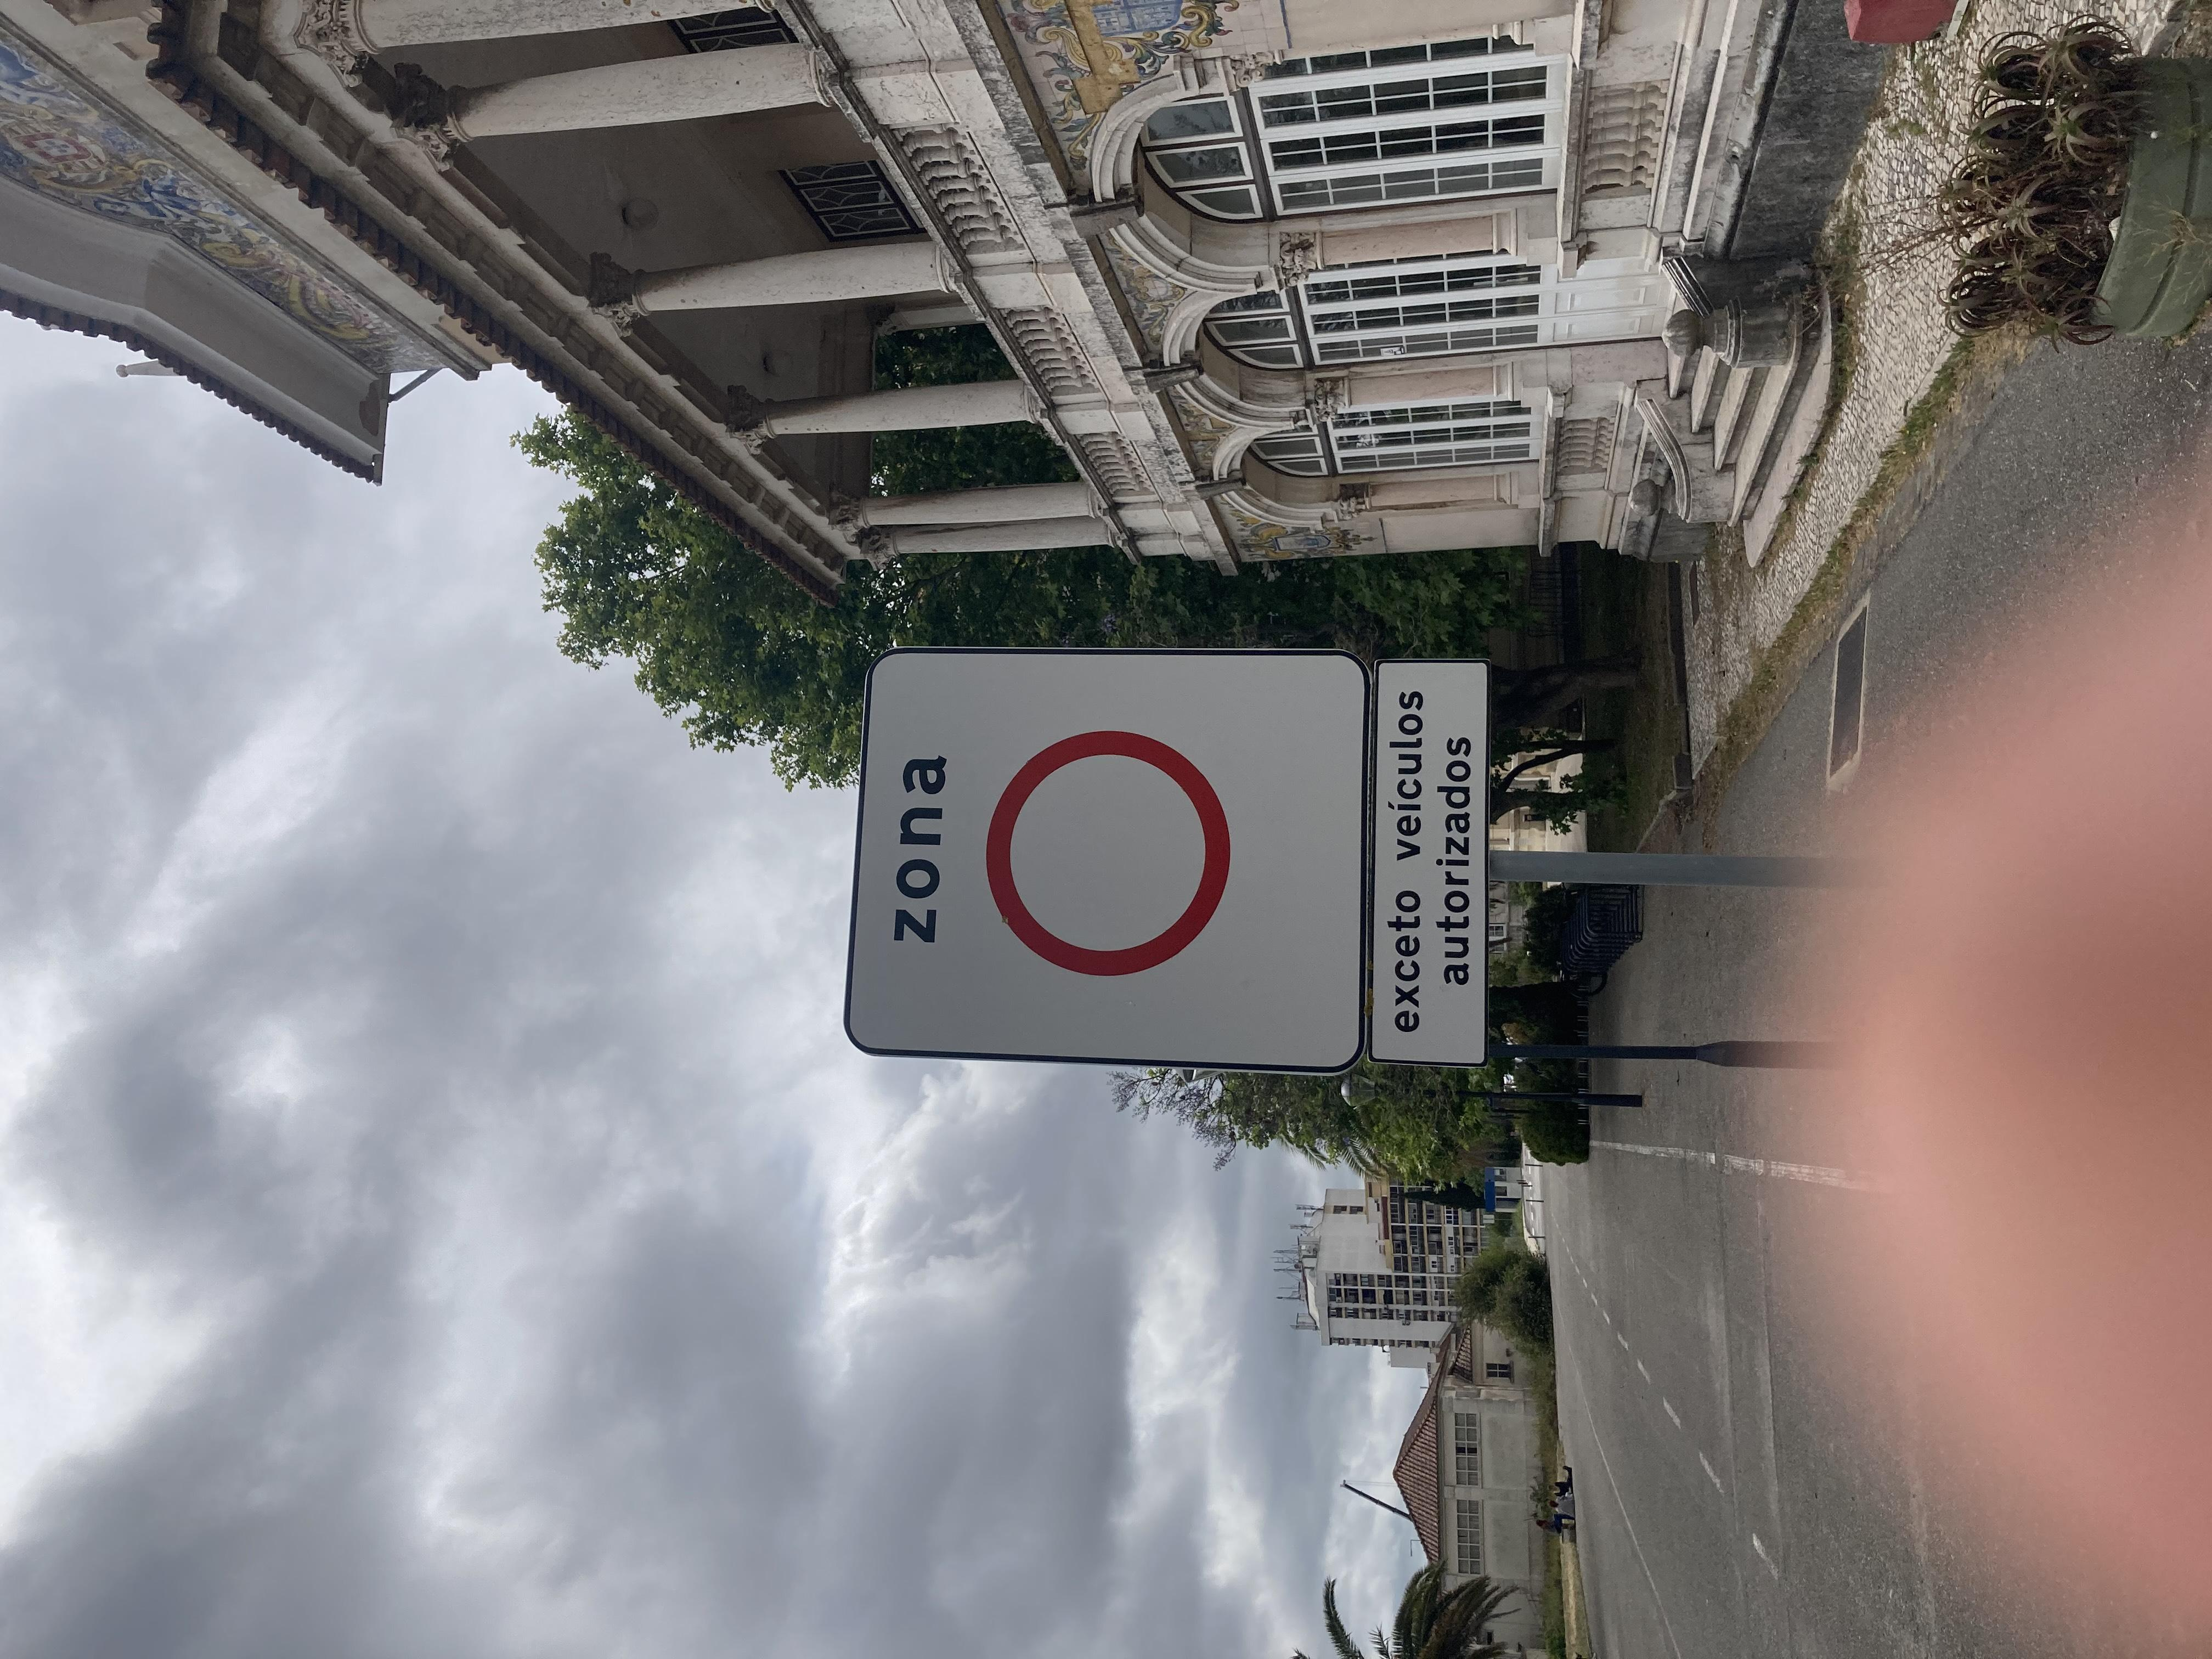zona de transito proibido: (805, 629, 1324, 1016)
